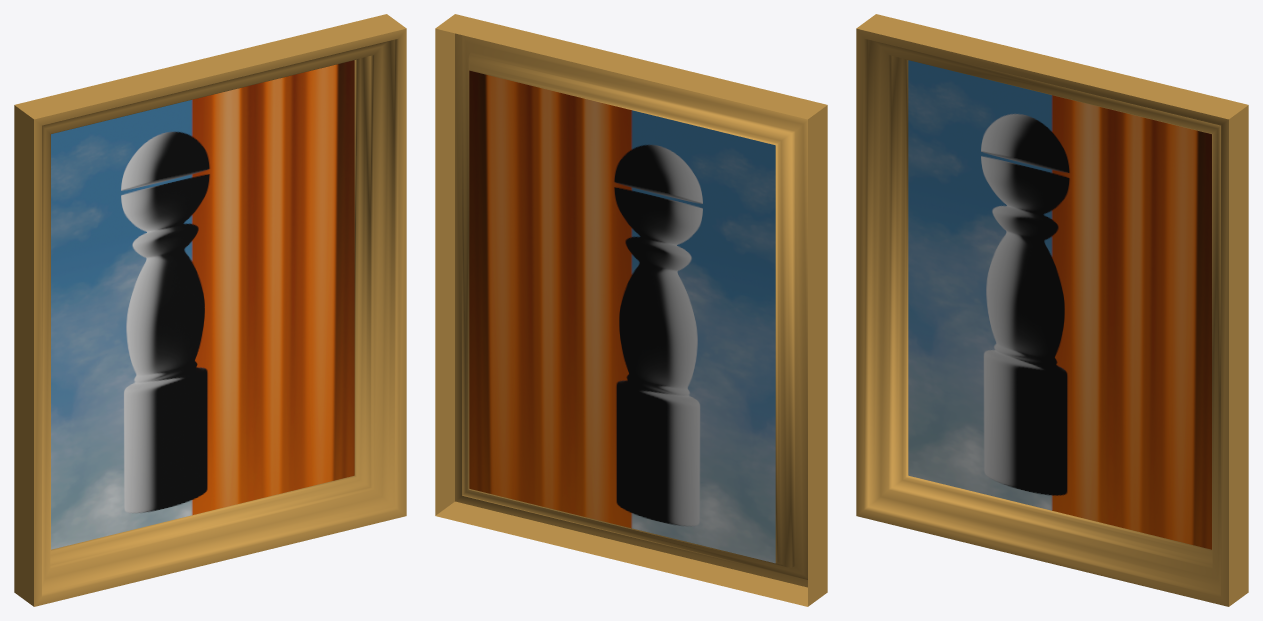
File: OT_065_magritte_painting_2.glb
3 renders of one model, left to right at view 1: azimuth 30°, elevation 25°; view 2: azimuth 150°, elevation 25°; view 3: azimuth 330°, elevation 25°, orthographic.
Visible parts, largest first — view 1: magritte_painting; view 2: magritte_painting; view 3: magritte_painting.
Boxes of the visible parts, x1,y1,x2,y2 form: magritte_painting: (14,14,406,606); magritte_painting: (435,14,827,606); magritte_painting: (856,14,1248,606).
Size of the model in its own units: 1.5 by 1.88 by 0.1388.
Materials: 2 (1 with a texture image).
